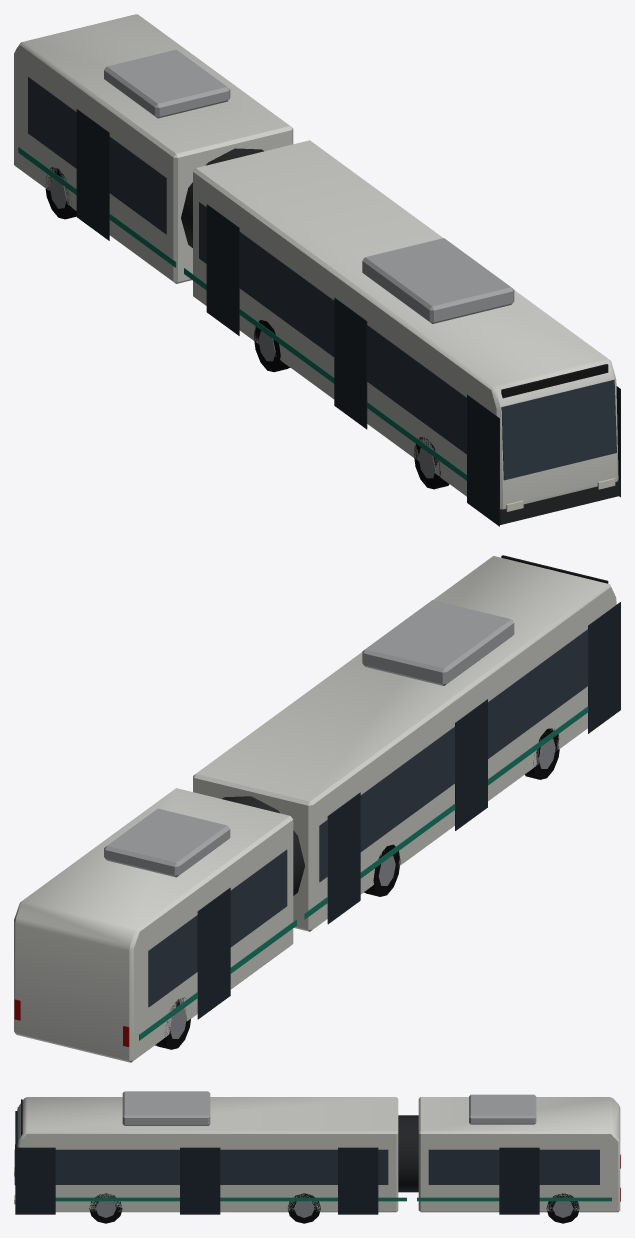
The model's file is bus_articule.glb.
3 views of the same model, one above another, from view 1: azimuth 30°, elevation 25°; view 2: azimuth 150°, elevation 25°; view 3: azimuth 270°, elevation 25° (orthographic). The views are drawn at different scales.
Visible parts, largest first — view 1: bus_articule; view 2: bus_articule; view 3: bus_articule.
Boxes of the visible parts, bbox=[...] form: bus_articule: bbox=[14, 14, 620, 526]; bus_articule: bbox=[14, 555, 620, 1062]; bus_articule: bbox=[14, 1091, 620, 1223].
Bounding box in the file's own units: 2.58 × 3.36 × 18.06.
